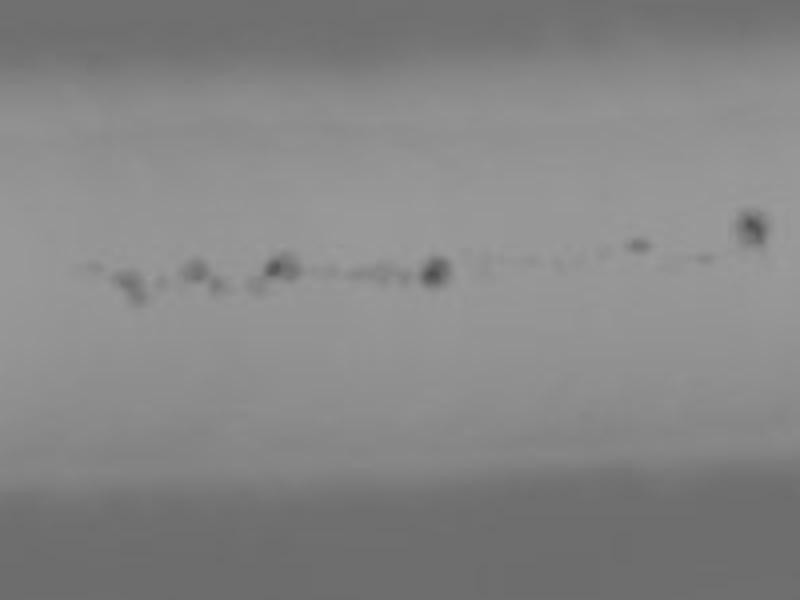defect: (352, 263, 415, 287), (733, 209, 770, 249), (109, 269, 147, 307), (263, 252, 304, 280), (419, 257, 452, 290), (618, 235, 654, 256), (179, 256, 209, 279), (245, 277, 270, 299), (692, 247, 722, 265), (313, 259, 337, 278), (591, 242, 612, 263), (206, 275, 228, 295), (87, 257, 105, 277), (153, 272, 170, 293)
